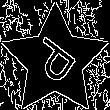P_SE: (25, 31, 85, 91)
